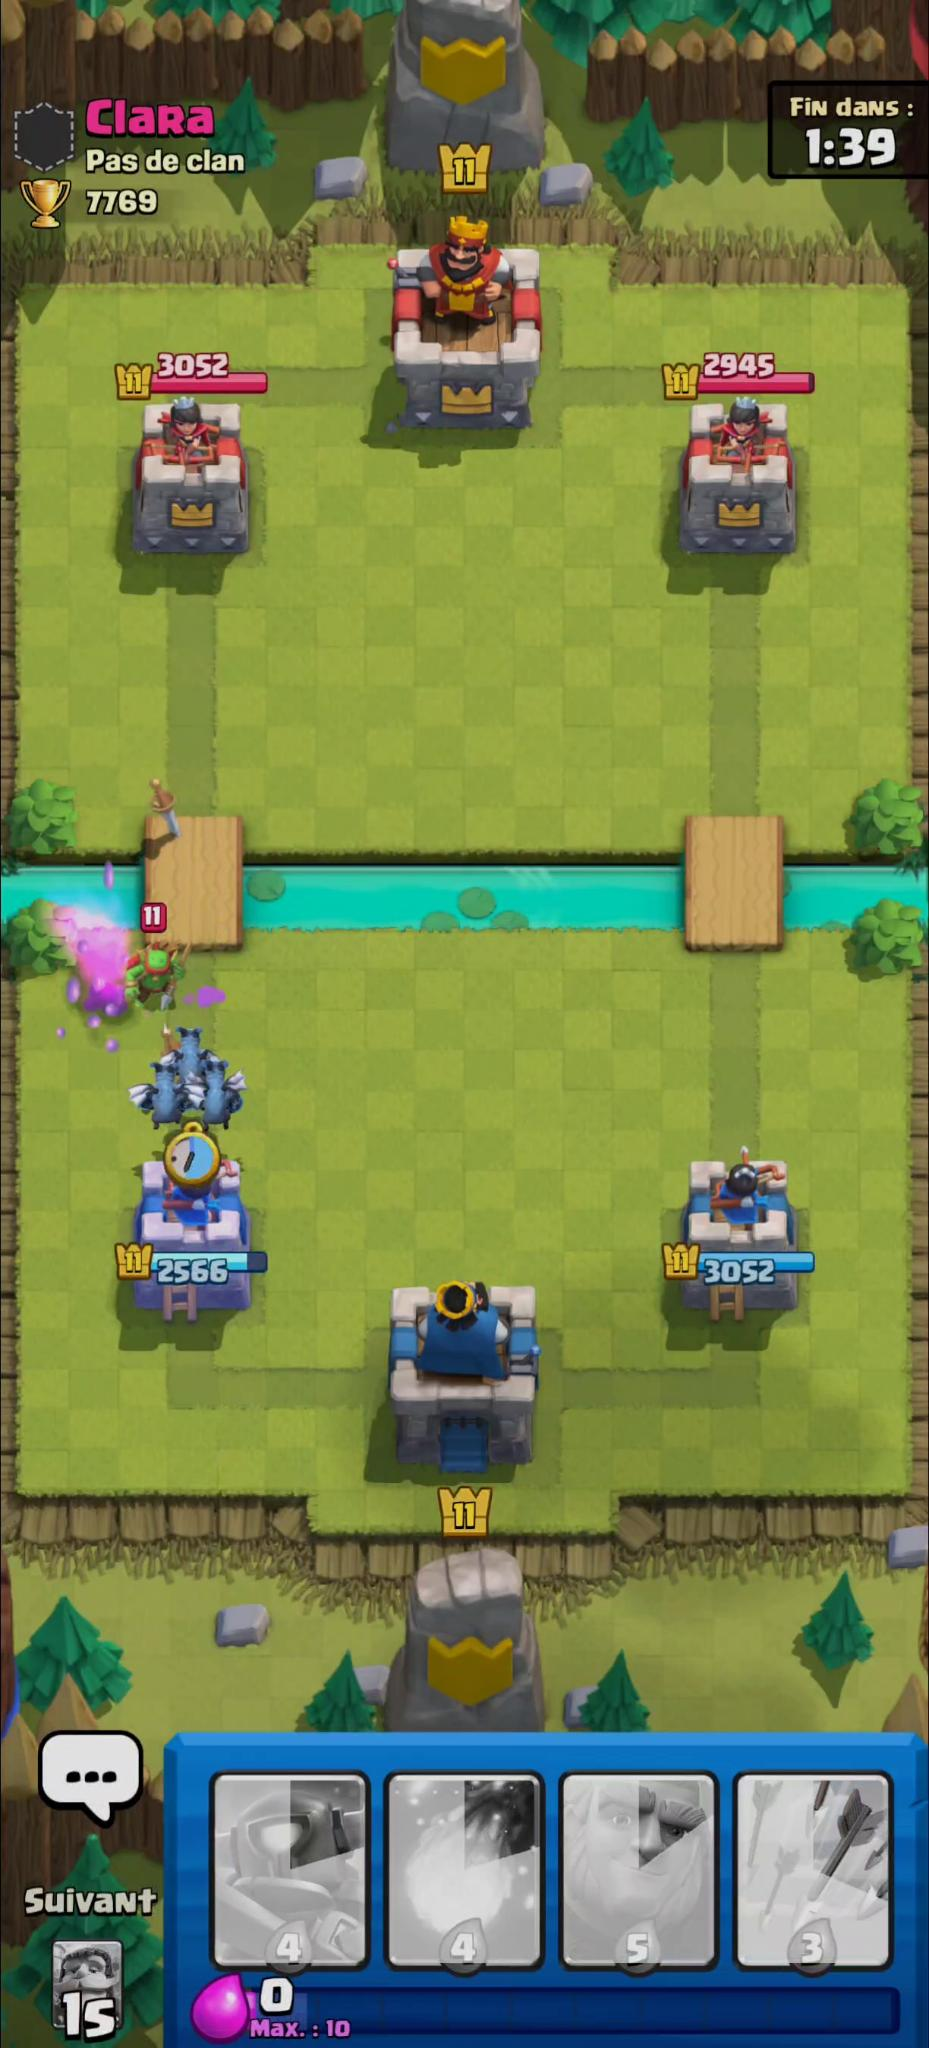gargouille: (187, 1063, 250, 1132), (133, 1063, 200, 1127), (163, 1027, 223, 1085)
gobelin_lances: (124, 939, 191, 1015)
